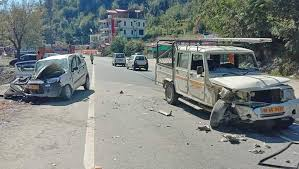accident: (161, 56, 299, 152), (14, 55, 94, 115)
